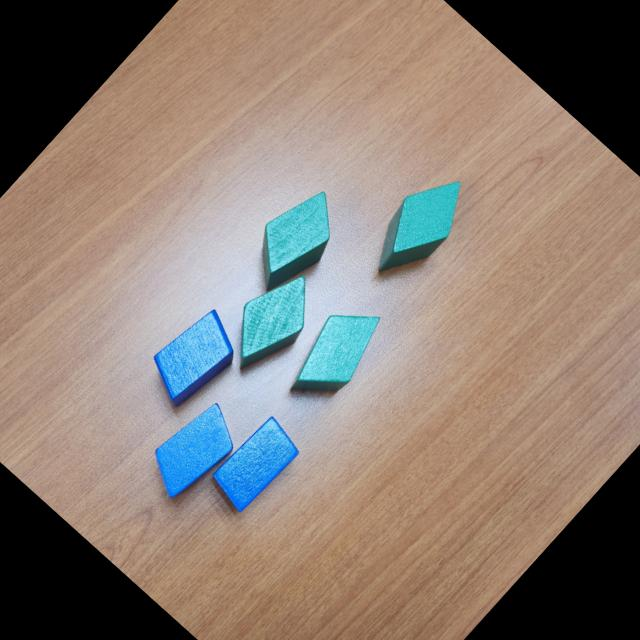blue: (138, 392, 250, 508), (137, 302, 250, 416), (204, 412, 304, 516)
green: (356, 160, 482, 290), (232, 178, 355, 306), (210, 258, 332, 384), (274, 293, 394, 417)
